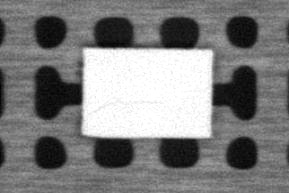DIE_CRACK: (86, 97, 166, 114)
